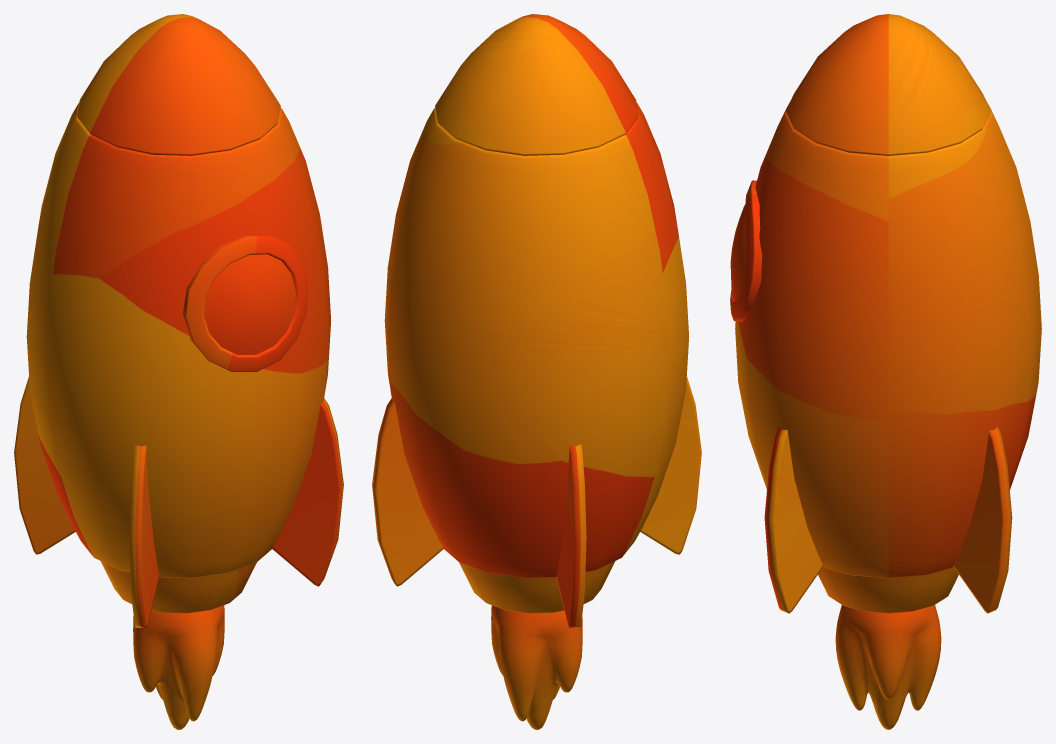
3 renders of one model, left to right at view 1: azimuth 30°, elevation 25°; view 2: azimuth 150°, elevation 25°; view 3: azimuth 270°, elevation 25°, orthographic.
Parts seen in each view (by area): view 1: Rocket_Rocket_0, Fire_Fire_0; view 2: Rocket_Rocket_0, Fire_Fire_0; view 3: Rocket_Rocket_0, Fire_Fire_0.
Boxes of the visible parts, box(x1,y1,x2,y2) form: Rocket_Rocket_0: box(14, 14, 343, 628); Fire_Fire_0: box(133, 605, 224, 729); Rocket_Rocket_0: box(372, 14, 701, 628); Fire_Fire_0: box(491, 605, 582, 729); Rocket_Rocket_0: box(730, 14, 1041, 613); Fire_Fire_0: box(835, 605, 941, 729).
Size of the model in its own units: 0.5106 by 1.31 by 0.5188.
Materials: 1 (1 with a texture image).
